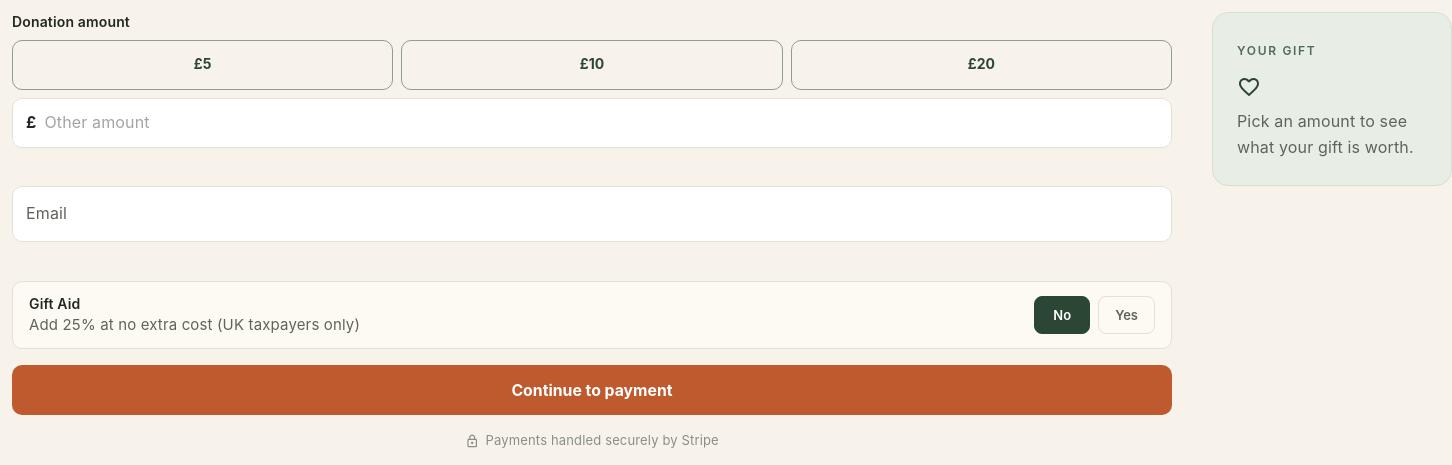
Test: DonationDetailsForm › shows validation errors for an empty submission
This screenshot has width=1452, height=465.
Click the button "Continue to payment" at (592, 390), box x1=12 y1=365 x2=1172 y2=415
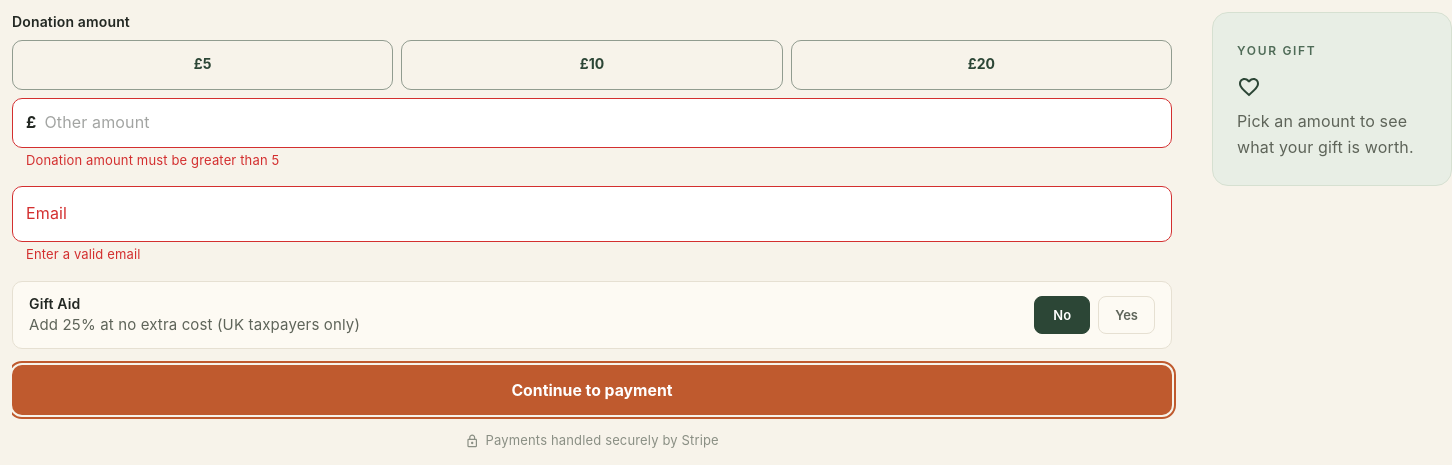
expect the text "Donation amount must be greater than 5" is shown: met, box x1=26 y1=152 x2=279 y2=168
expect the text "Enter a valid email" is shown: met, box x1=26 y1=246 x2=141 y2=262
